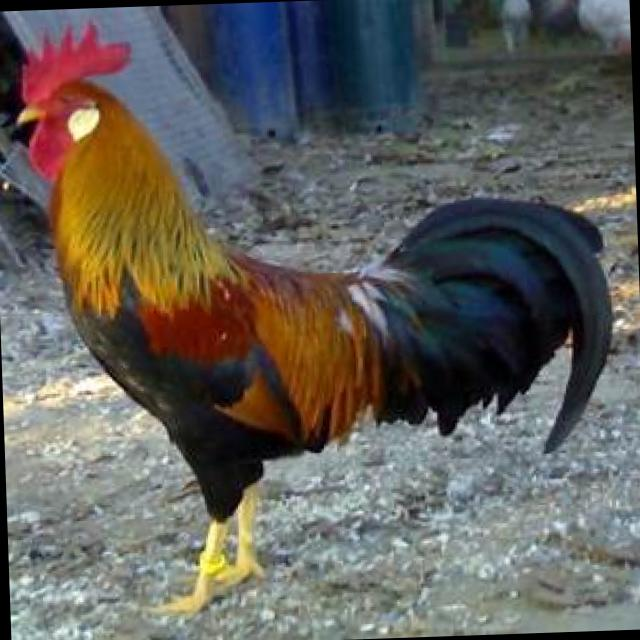animal: (8, 0, 630, 637)
